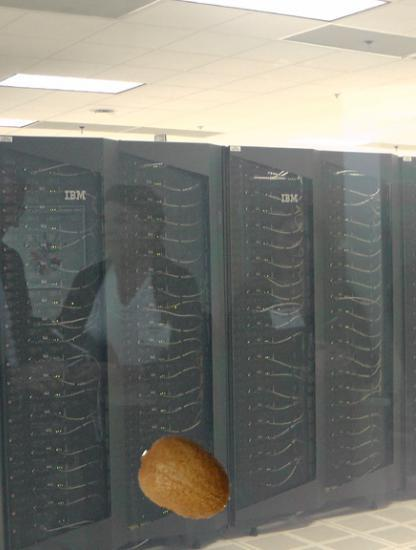Kiwi: (136, 430, 234, 528)
